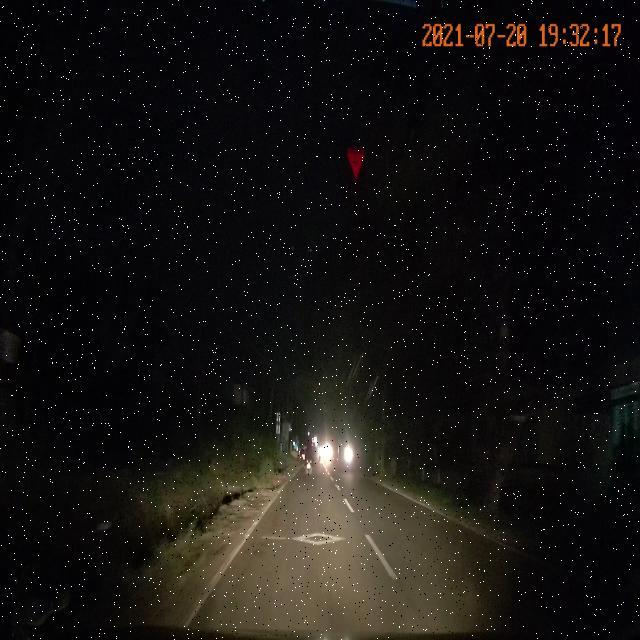diamond: (213, 511, 401, 577)
